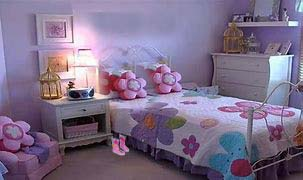copymove: (115, 69, 147, 99)
removal: (94, 14, 168, 26)
spliced: (110, 130, 130, 156)
